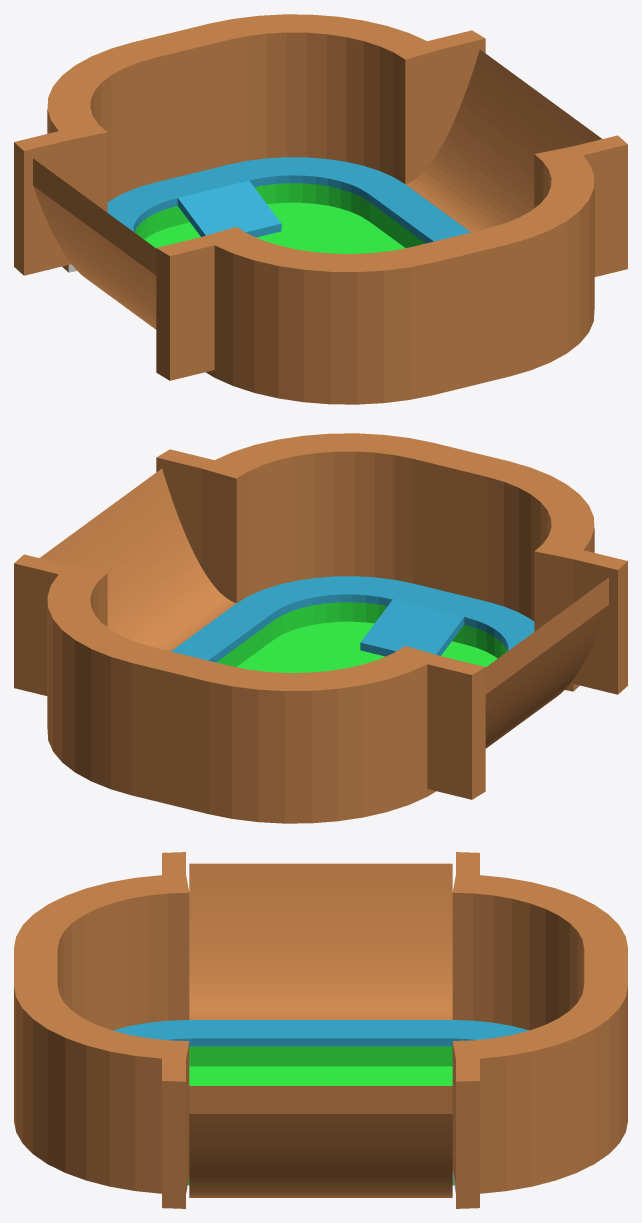
Rendered from CoinPark.fbx.
The picture shows the model from 3 angles, top to bottom: view 1: azimuth 30°, elevation 25°; view 2: azimuth 150°, elevation 25°; view 3: azimuth 270°, elevation 25°; orthographic projection. The views are drawn at different scales.
Visible parts, largest first — view 1: Cube, Cube.002, Cube.001, Cube.003; view 2: Cube, Cube.002, Cube.001, Cube.003; view 3: Cube, Cube.003, Cube.002, Cube.001.
Boxes of the visible parts, <box> form: Cube: <box>14,14,627,404</box>; Cube.002: <box>405,49,601,232</box>; Cube.001: <box>134,183,425,253</box>; Cube.003: <box>33,158,156,329</box>; Cube: <box>14,433,627,823</box>; Cube.002: <box>40,468,236,651</box>; Cube.001: <box>216,602,507,672</box>; Cube.003: <box>485,577,608,748</box>; Cube: <box>14,852,627,1208</box>; Cube.003: <box>189,863,452,1019</box>; Cube.002: <box>189,1086,452,1197</box>; Cube.001: <box>188,1046,453,1185</box>.
Bounding box in the file's own units: 12394 × 4100 × 13998.
